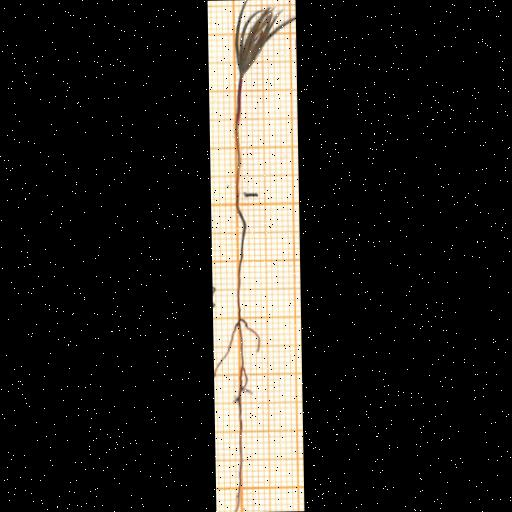flowerPinus: (235, 1, 295, 75)
rootPinus: (215, 199, 260, 371), (235, 339, 247, 512)
stemPinus: (235, 73, 244, 191)
